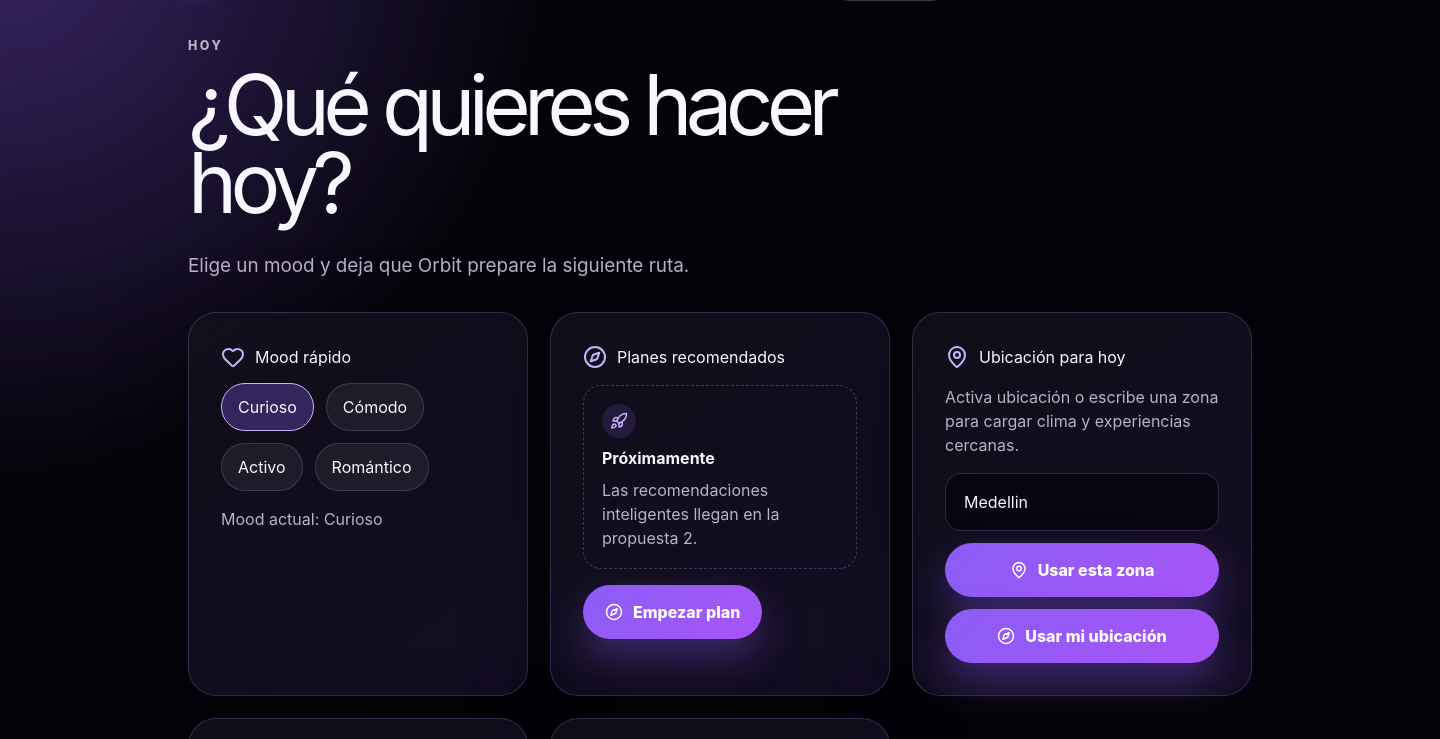
Orbit web foundation › loads manual location context with weather and nearby cards
The image size is (1440, 739).
Replace the text in the field showing "Medellin" with "Laureles". click: coordinates (1082, 502)
box: [945, 473, 1219, 531]
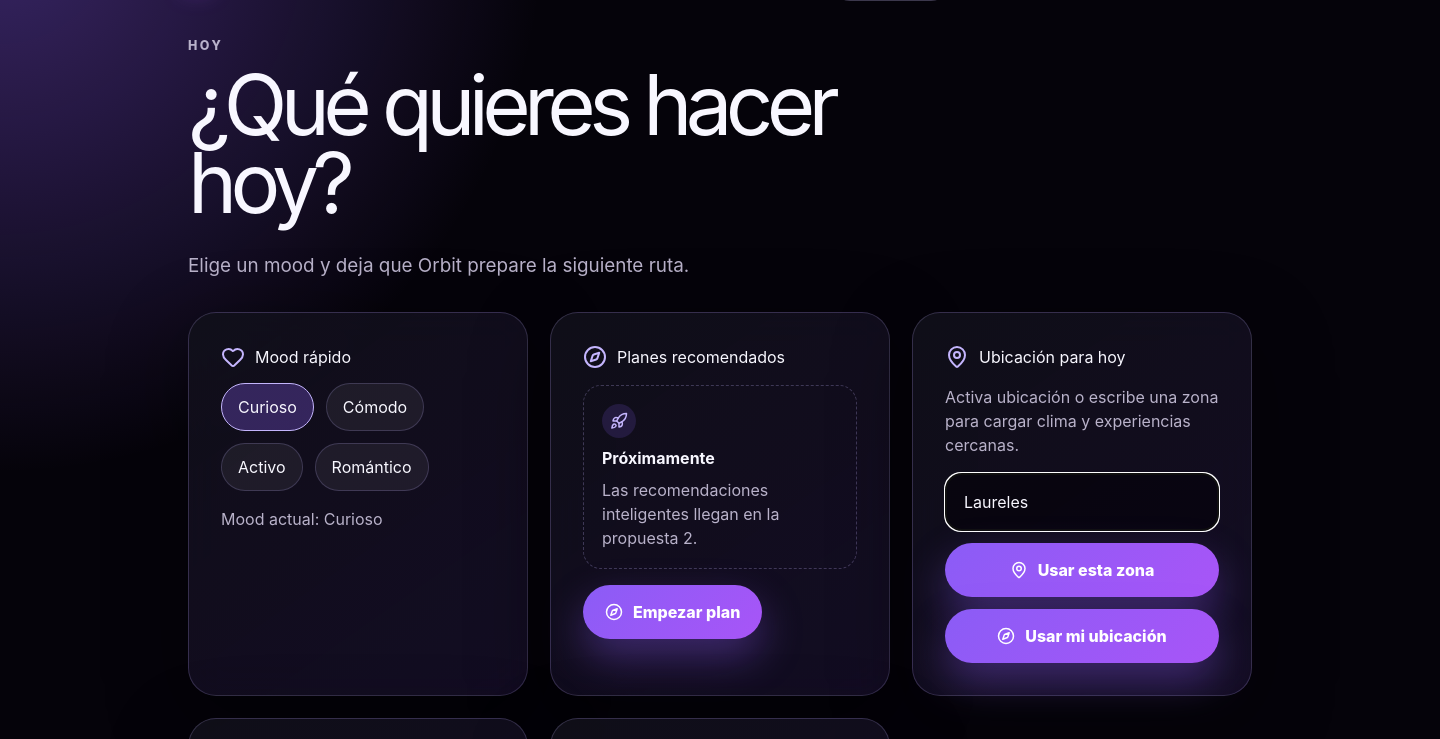
Click the button "Usar esta zona". click: coordinates (1082, 570)
box: [945, 543, 1219, 597]
(page scrolled)
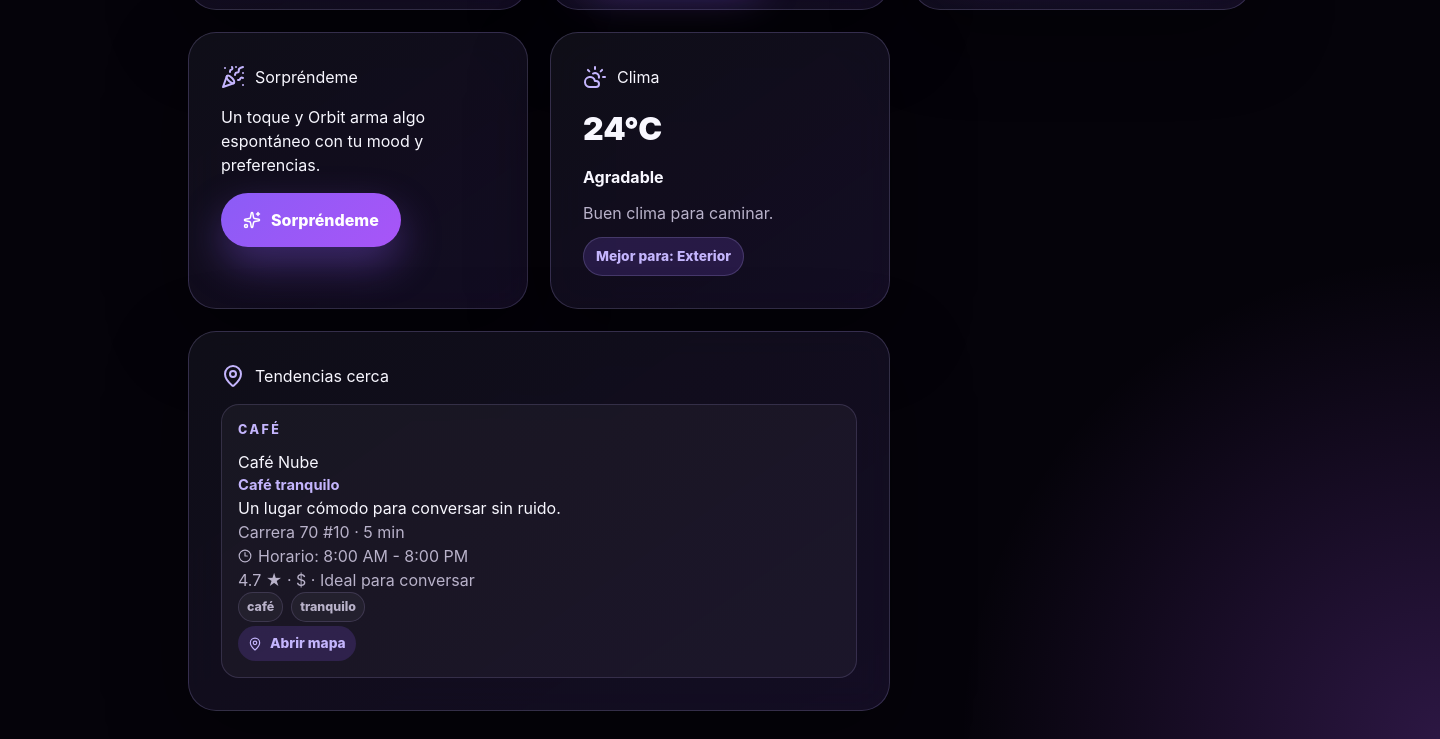
Result: the text "24°C" is shown at [583, 109, 662, 148]
Result: the heading "Café Nube" is shown at [238, 452, 319, 472]
Result: the text "Un lugar cómodo para conversar sin ruido." is shown at [238, 498, 561, 518]
